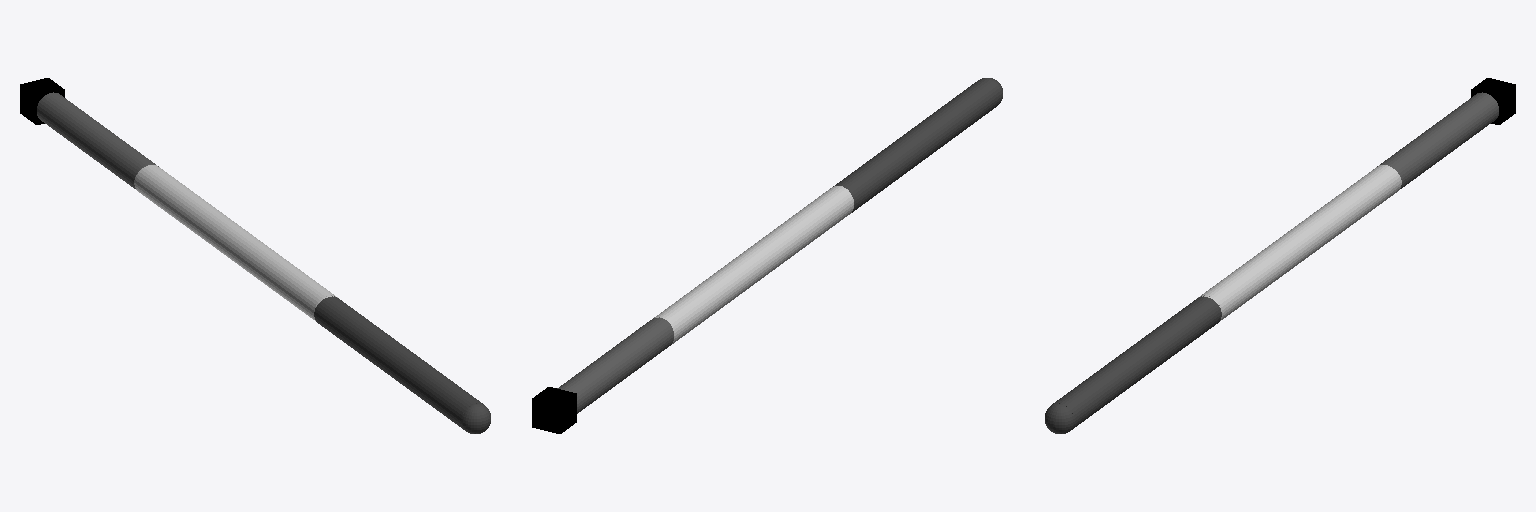
The robot description file, URDF, robot "three_link_planar_capsule":
<robot name="three_link_planar_capsule">
  <link name="base_link" />

  <link name="mounting_link">
    <visual>
      <geometry>
        <box size="0.03 0.03 0.03" />
      </geometry>
      <material name="black">
        <color rgba="0 0 0 1"/>
      </material>
    </visual>
  </link>


  <link name="link1">
    <visual>
      <geometry>
        <cylinder length="0.196" radius="0.015"/>
      </geometry>
      <origin rpy="1.57 0 0" xyz="0 -0.098 0"/>
      <material name="grey1">
        <color rgba="0.4 0.4 0.4 1"/>
      </material>
    </visual>
    <collision>
      <geometry>
        <cylinder length="0.196" radius="0.015"/>
      </geometry>
      <origin rpy="1.57 0 0" xyz="0 -0.098 0"/>
    </collision>

    <visual>
      <geometry>
        <sphere radius="0.015"/>
      </geometry>
      <origin rpy="0 0 0" xyz="0 0 0"/>
      <material name="grey1">
        <color rgba="0.4 0.4 0.4 1"/>
      </material>
    </visual>
    <collision>
      <geometry>
        <sphere radius="0.015"/>
      </geometry>
      <origin rpy="0 0 0" xyz="0 0 0"/>
    </collision>

    <visual>
      <geometry>
        <sphere radius="0.015"/>
      </geometry>
      <origin rpy="0 0 0" xyz="0 -0.196 0"/>
      <material name="grey1">
        <color rgba="0.4 0.4 0.4 1"/>
      </material>
    </visual>
    <collision>
      <geometry>
        <sphere radius="0.015"/>
      </geometry>
      <origin rpy="0 0 0" xyz="0 -0.196 0"/>
    </collision>

    <inertial>
      <mass value="2.835"/>
      <inertia ixx="1.0" ixy="0.0" ixz="0.0" iyy="0.0" iyz="0.0" izz="0.0"/>
    </inertial>
  </link>

  <link name="link2">
    <visual>
      <geometry>
        <cylinder length="0.334" radius="0.015"/>
      </geometry>
      <origin rpy="1.57 0 0" xyz="0 -0.167 0"/>
      <material name="grey2">
        <color rgba="0.8 0.8 0.8 1"/>
      </material>
    </visual>
    <collision>
      <geometry>
        <cylinder length="0.334" radius="0.015"/>
      </geometry>
      <origin rpy="1.57 0 0" xyz="0 -0.167 0"/>
    </collision>

    <visual>
      <geometry>
        <sphere radius="0.015"/>
      </geometry>
      <origin rpy="0 0 0" xyz="0 0 0"/>
      <material name="grey2">
        <color rgba="0.8 0.8 0.8 1"/>
      </material>
    </visual>
    <collision>
      <geometry>
        <sphere radius="0.015"/>
      </geometry>
      <origin rpy="0 0 0" xyz="0 0 0"/>
    </collision>

    <visual>
      <geometry>
        <sphere radius="0.015"/>
      </geometry>
      <origin rpy="0 0 0" xyz="0 -0.334 0"/>
      <material name="grey2">
        <color rgba="0.8 0.8 0.8 1"/>
      </material>
    </visual>
    <collision>
      <geometry>
        <sphere radius="0.015"/>
      </geometry>
      <origin rpy="0 0 0" xyz="0 -0.334 0"/>
    </collision>

    <inertial>
      <mass value="2.3"/>
      <inertia ixx="1.0" ixy="0.0" ixz="0.0" iyy="0.0" iyz="0.0" izz="0.0"/>
    </inertial>
  </link>

  <link name="link3">
    <visual>
      <geometry>
        <cylinder length="0.273" radius="0.015"/>
      </geometry>
      <origin rpy="1.57 0 0" xyz="0 -0.1365 0"/>
      <material name="grey3">
        <color rgba="0.33 0.33 0.33 1"/>
      </material>
    </visual>
    <collision>
      <geometry>
        <cylinder length="0.273" radius="0.015"/>
      </geometry>
      <origin rpy="1.57 0 0" xyz="0 -0.1365 0"/>
    </collision>

    <visual>
      <geometry>
        <sphere radius="0.015"/>
      </geometry>
      <origin rpy="0 0 0" xyz="0 0.0 0"/>
      <material name="grey3">
        <color rgba="0.33 0.33 0.33 1"/>
      </material>
    </visual>
    <collision>
      <geometry>
        <sphere radius="0.015"/>
      </geometry>
      <origin rpy="0 0 0" xyz="0 0 0"/>
    </collision>

    <visual>
      <geometry>
        <sphere radius="0.015"/>
      </geometry>
      <origin rpy="0 0 0" xyz="0 -0.273 0"/>
      <material name="grey3">
        <color rgba="0.33 0.33 0.33 1"/>
      </material>
    </visual>
    <collision>
      <geometry>
        <sphere radius="0.015"/>
      </geometry>
      <origin rpy="0 0 0" xyz="0 -0.273 0"/>
    </collision>

    <inertial>
      <mass value="1.32"/>
      <inertia ixx="1.0" ixy="0.0" ixz="0.0" iyy="0.0" iyz="0.0" izz="0.0"/>
    </inertial>
  </link>

  <link name="tool_link">
  </link>

  <joint name="mounting_joint" type="fixed">
    <parent link="base_link"/>
    <child link="mounting_link"/>
    <origin xyz="0 0 0" rpy="0 0 1.57" />
    <axis xyz="0 0 1" />
  </joint>

  <joint name="joint1" type="revolute">
    <parent link="mounting_link"/>
    <child link="link1"/>
    <origin xyz="0 0 0" rpy="0 0 -1.57" />
    <axis xyz="0 0 1" />
    <limit effort="18" lower="-2.62" upper="2.62" velocity="2"/>
  </joint>

  <joint name="joint2" type="revolute">
    <parent link="link1"/>
    <child link="link2"/>
    <origin xyz="0 -0.196 0" rpy="0 0 0" />
    <axis xyz="0 0 1" />
    <limit effort="18" lower="-1.1" upper="2.83" velocity="2"/>
  </joint>

  <joint name="joint3" type="revolute">
    <parent link="link2"/>
    <child link="link3"/>
    <origin xyz="0 -0.334 0" rpy="0 0 0" />
    <axis xyz="0 0 1" />
    <limit effort="18" lower="0.0" upper="2.78" velocity="2"/>
  </joint>

  <joint name="tool_joint" type="fixed">
    <parent link="link3"/>
    <child link="tool_link"/>
    <origin xyz="0 -0.288 0" rpy="0 0 0" />
    <axis xyz="0 0 1" />
  </joint>

</robot>

--- What the picture shows (computed from the rendered views, not written in the file) ---
3 views of the same robot in one strip: view 1: azimuth 30°, elevation 25°; view 2: azimuth 150°, elevation 25°; view 3: azimuth 330°, elevation 25° (orthographic).
Model three_link_planar_capsule with 6 links and 5 joints (3 revolute, 2 fixed), rooted at base_link, posed all joints at 0.
Visible links, largest first — view 1: link2, link3, link1, mounting_link; view 2: link2, link3, link1, mounting_link; view 3: link2, link3, link1, mounting_link.
Link boxes in pixels (left/top/right/bottom): link2: left=134, top=165, right=337, bottom=320; link3: left=314, top=296, right=490, bottom=433; link1: left=37, top=92, right=158, bottom=188; mounting_link: left=20, top=78, right=64, bottom=124; link2: left=654, top=186, right=853, bottom=343; link3: left=833, top=78, right=1002, bottom=212; link1: left=557, top=317, right=673, bottom=413; mounting_link: left=532, top=387, right=576, bottom=433; link2: left=1198, top=165, right=1401, bottom=320; link3: left=1045, top=296, right=1221, bottom=433; link1: left=1377, top=92, right=1498, bottom=188; mounting_link: left=1471, top=78, right=1515, bottom=124.
Bounding box of the posed robot: 0.03 × 0.833 × 0.0303 m (x, y, z).
Geometry: primitives only (box / cylinder / sphere), no mesh files.